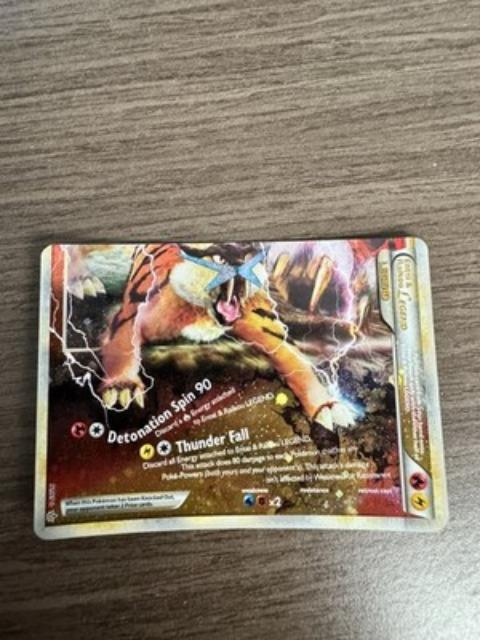Card: (29, 233, 452, 544)
Name: (391, 254, 418, 339)
